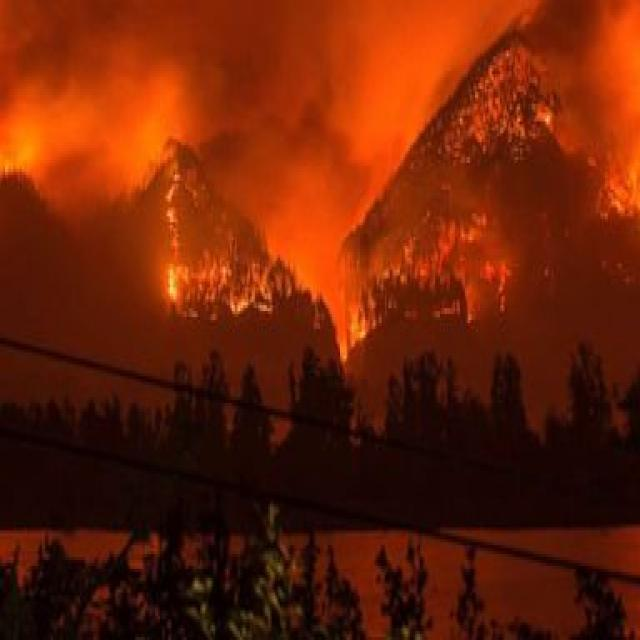Smoke: (0, 0, 379, 303), (582, 0, 640, 145)
